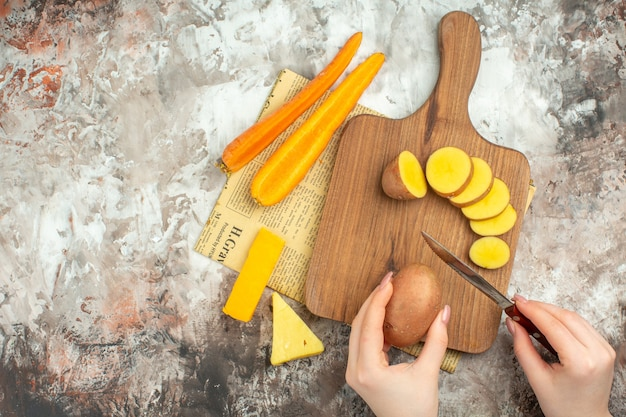knife: (419, 233, 559, 355)
